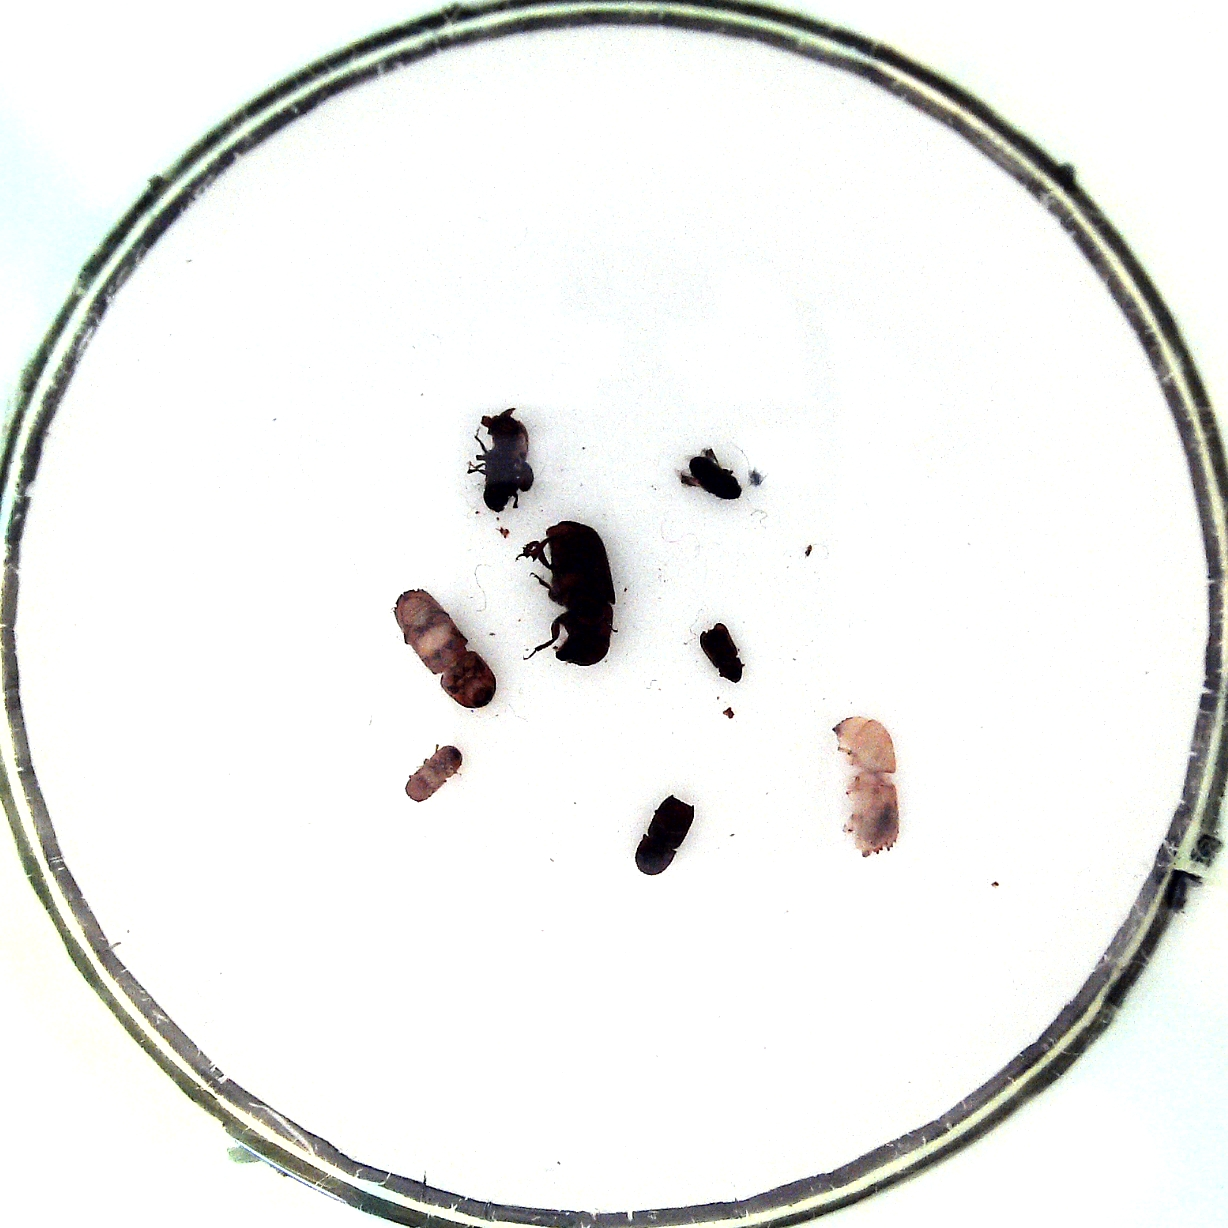Boerner: (394, 588, 496, 708), (832, 716, 900, 857)
Leconte: (543, 520, 615, 666)
acuminatus: (689, 455, 741, 500)
armandi: (481, 409, 534, 512)
coleoptera: (406, 744, 462, 802), (699, 623, 742, 681)
linnaeus: (634, 794, 695, 874)
